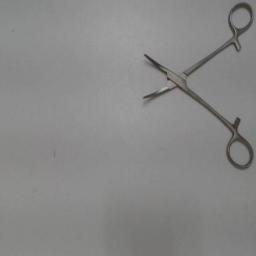Crile Artery Forceps: (138, 0, 254, 174)
